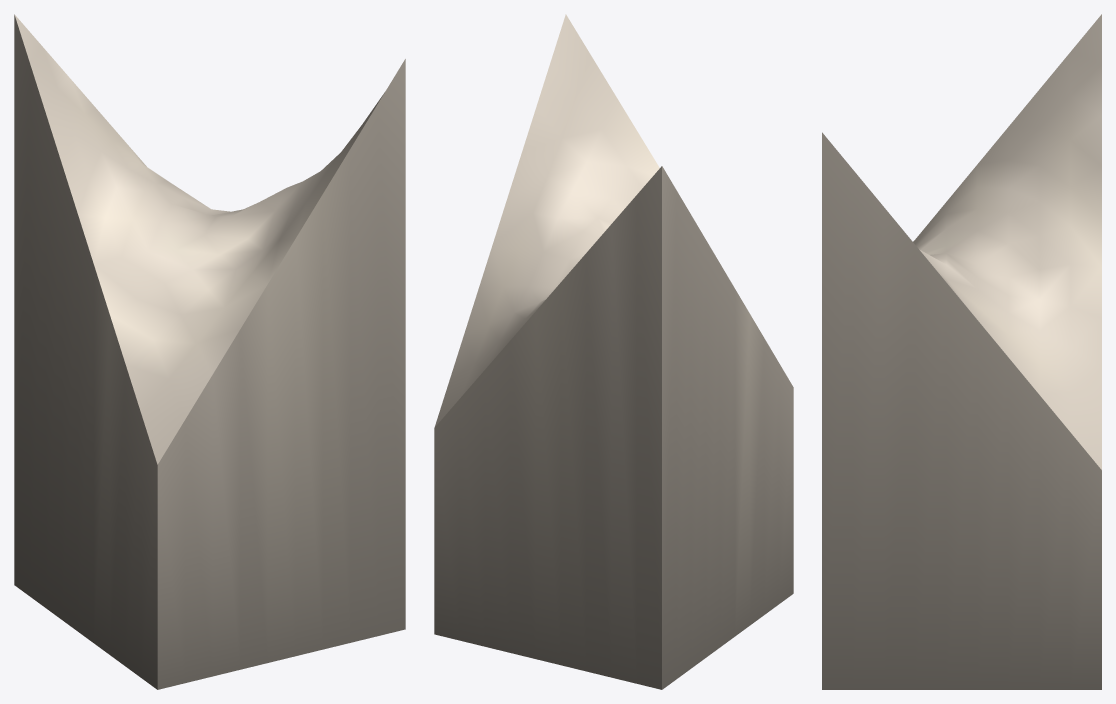
File: SM_VKI_Rock_Cave_CFCF_B.fbx
The picture shows the model from 3 angles, left to right: view 1: azimuth 30°, elevation 25°; view 2: azimuth 150°, elevation 25°; view 3: azimuth 270°, elevation 25°; orthographic projection. The views are drawn at different scales.
Parts seen in each view (by area): view 1: SM_VKI_Rock_Cave_CFCF_B.001; view 2: SM_VKI_Rock_Cave_CFCF_B.001; view 3: SM_VKI_Rock_Cave_CFCF_B.001.
Boxes of the visible parts, x1,y1,x2,y2 form: SM_VKI_Rock_Cave_CFCF_B.001: [14, 14, 405, 689]; SM_VKI_Rock_Cave_CFCF_B.001: [434, 14, 793, 689]; SM_VKI_Rock_Cave_CFCF_B.001: [822, 14, 1101, 689].
Size of the model in its own units: 1.5 by 3.3 by 1.5.
